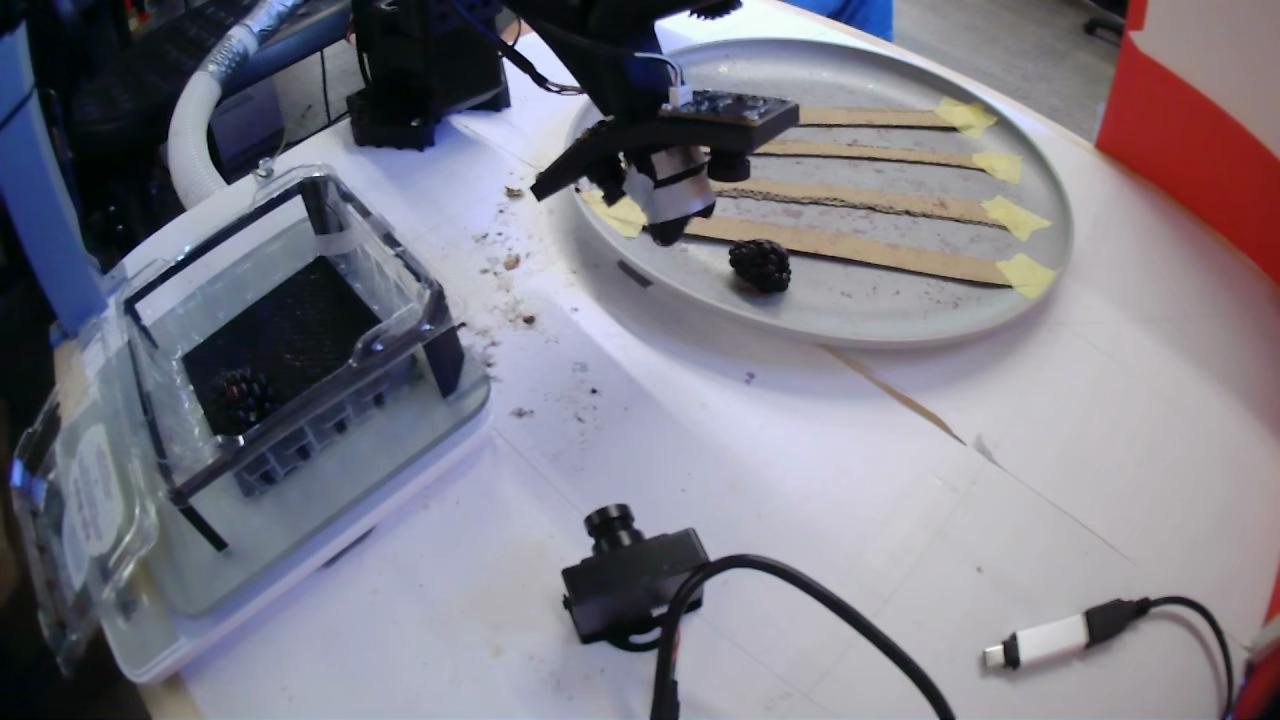berry: (729, 239, 791, 294), (221, 369, 270, 426)
